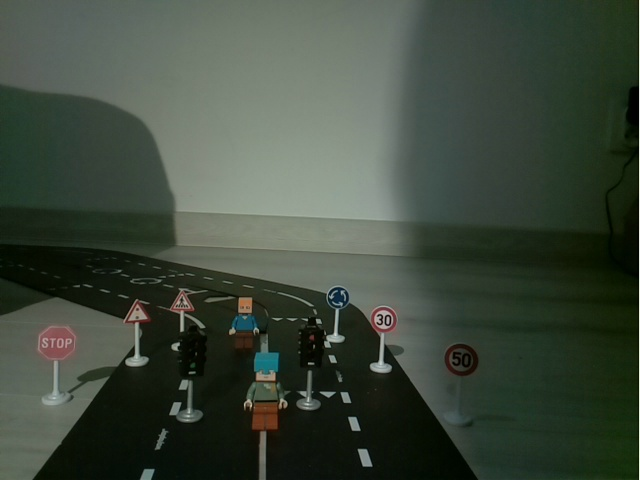green light: (182, 326, 204, 425)
limit 30: (367, 303, 401, 378)
limit 50: (441, 338, 482, 429)
pedestrian sign: (167, 287, 196, 325)
person: (227, 292, 261, 352)
red light: (296, 320, 324, 412)
round: (326, 284, 351, 343)
second person: (242, 352, 288, 434)
stop: (36, 322, 80, 411)
traffic light sign: (123, 296, 153, 370)
